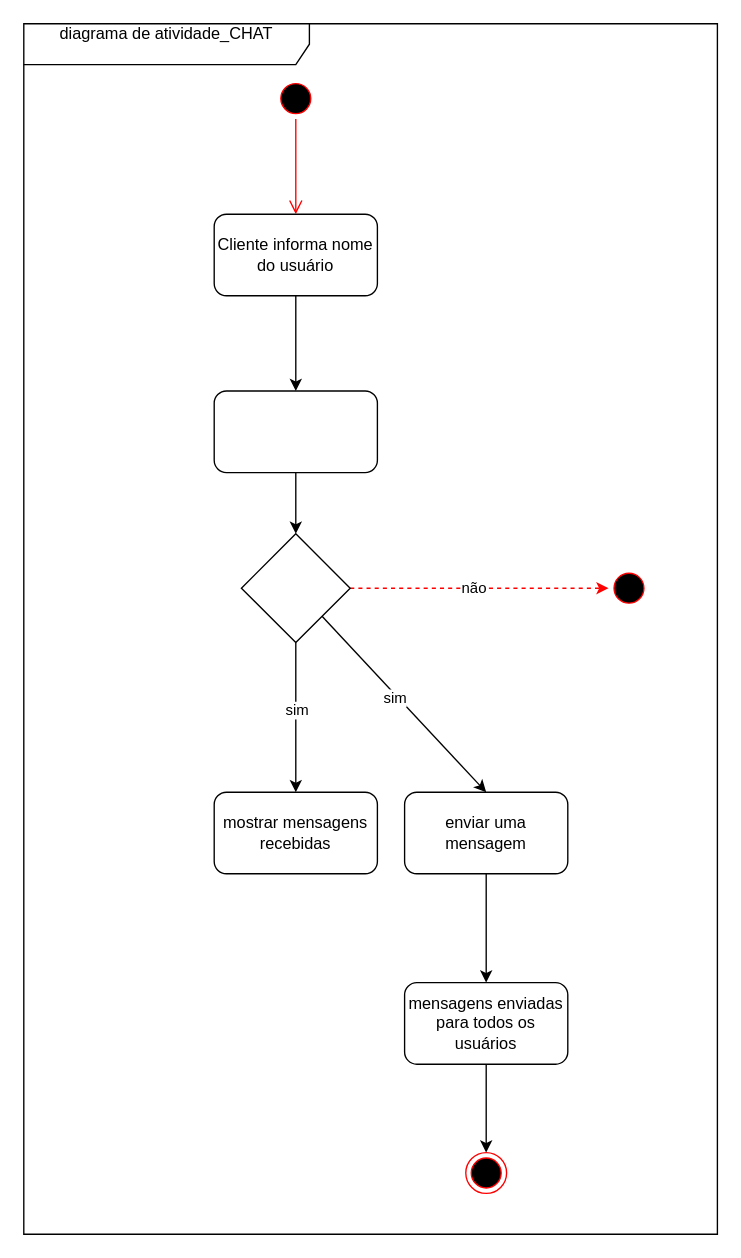
The diagram is 741 pixels wide and 1258 high, and some of its shapes have lost their labels. Each missing label, with the centre of its shape:
"tenta se conectar na fila usuário" goes at (295,431).
"usuário registrado no servidor" goes at (295,587).
